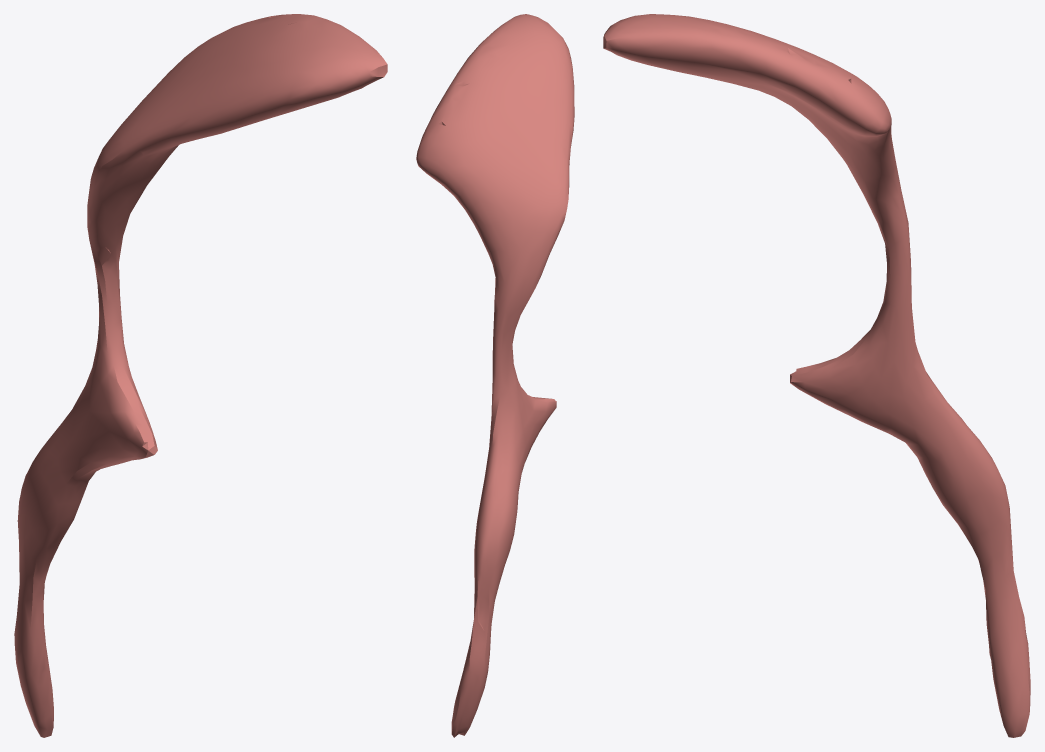
Rendered from fma46671_mm1255m.glb.
3 renders of one model, left to right at view 1: azimuth 30°, elevation 25°; view 2: azimuth 150°, elevation 25°; view 3: azimuth 270°, elevation 25°, orthographic. The views are drawn at different scales.
Visible parts, largest first — view 1: FMA46671_MM1255M; view 2: FMA46671_MM1255M; view 3: FMA46671_MM1255M.
Part boxes in pixels (x1=…): FMA46671_MM1255M: x1=14, y1=14, x2=387, y2=737; FMA46671_MM1255M: x1=416, y1=14, x2=574, y2=737; FMA46671_MM1255M: x1=603, y1=14, x2=1030, y2=737.
Size of the model in its own units: 0.0181 by 0.0773 by 0.0393.
